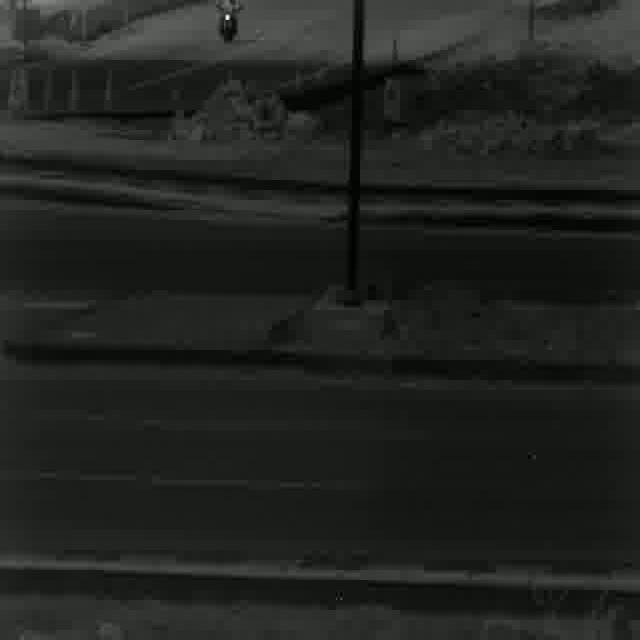Motorcycle: (213, 0, 245, 42)
